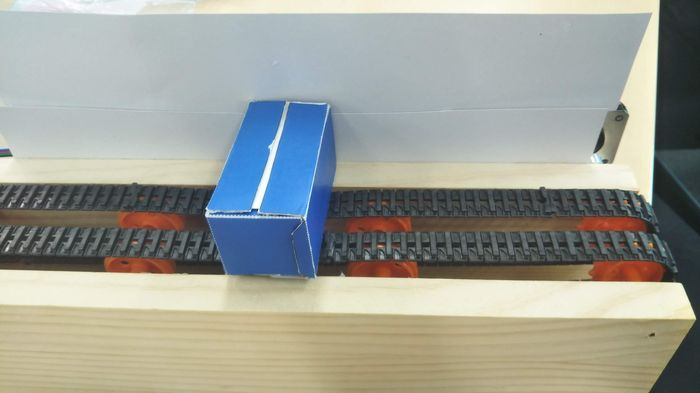box3: (200, 91, 340, 286)
